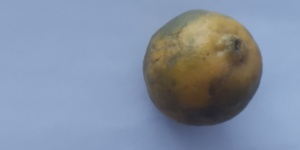BAD: (141, 6, 265, 126)
